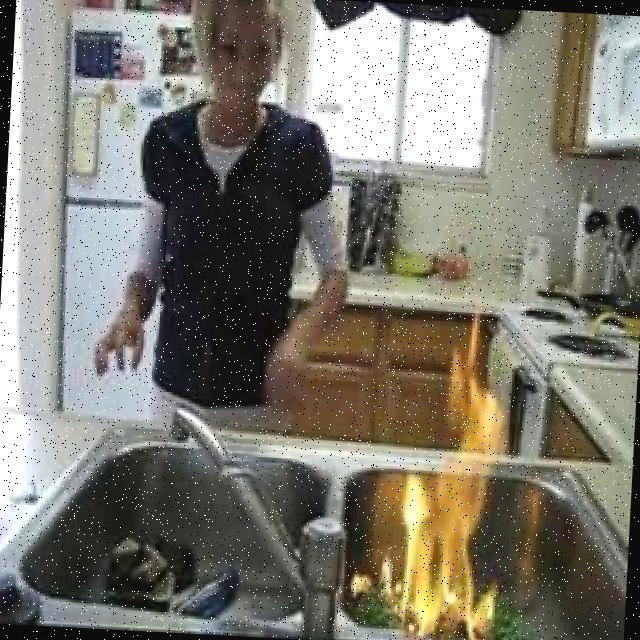Fire: (371, 324, 516, 640)
